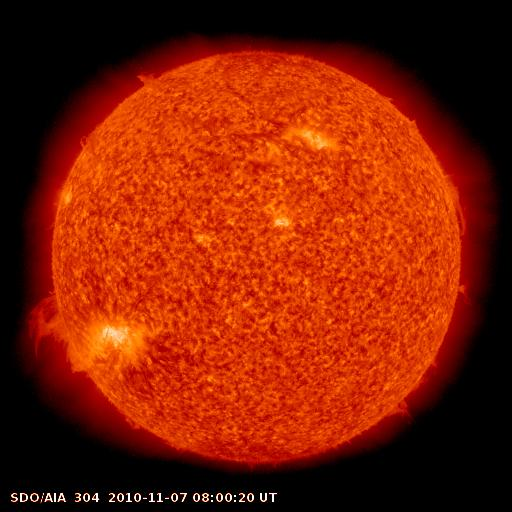prominence: (16, 285, 81, 371), (370, 357, 441, 430), (431, 158, 479, 244), (373, 89, 429, 140), (123, 53, 182, 101), (444, 270, 488, 317), (112, 406, 162, 440), (68, 129, 97, 158)
